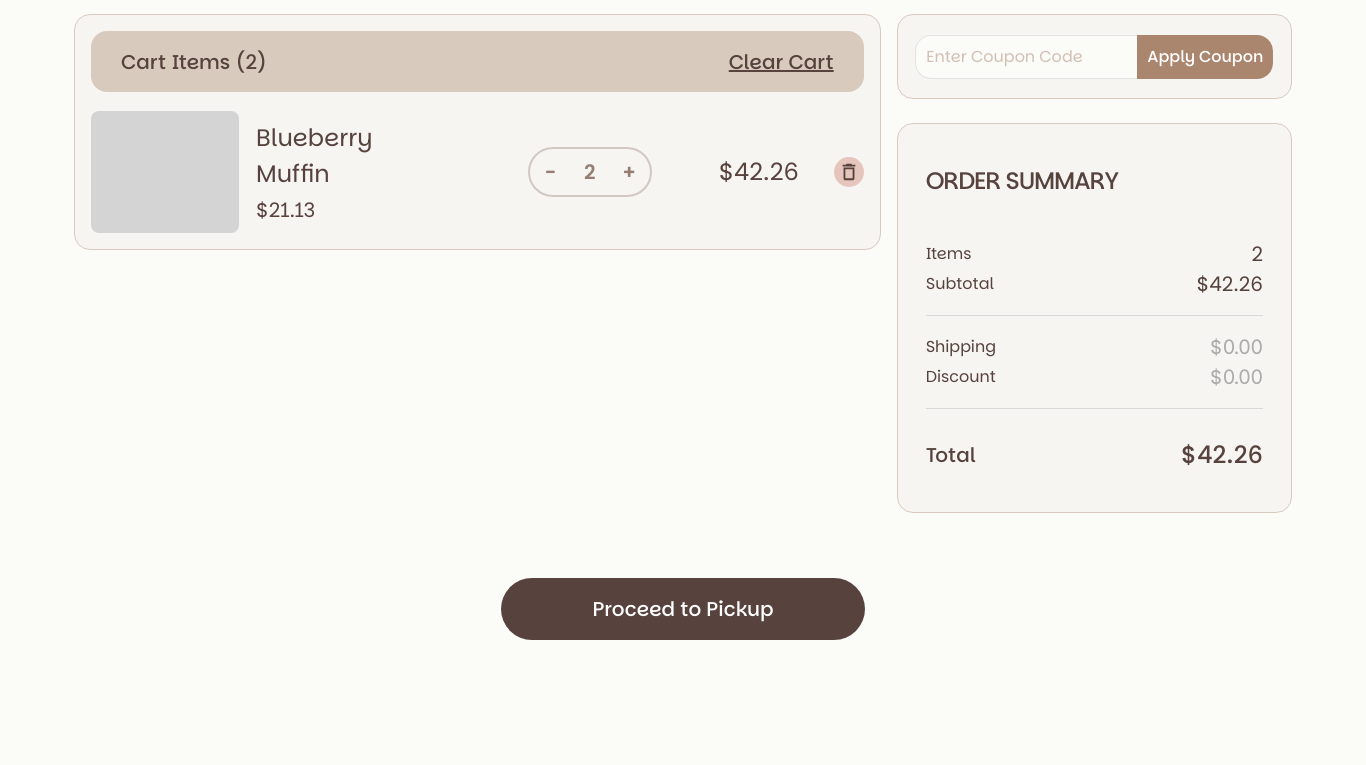
Pickup stage 2 - Step 01, the contact form › offers a way back to the cart
The image size is (1366, 765).
(page scrolled)
Click the button "Proceed to Pickup": (683, 609) [501,578,865,640]
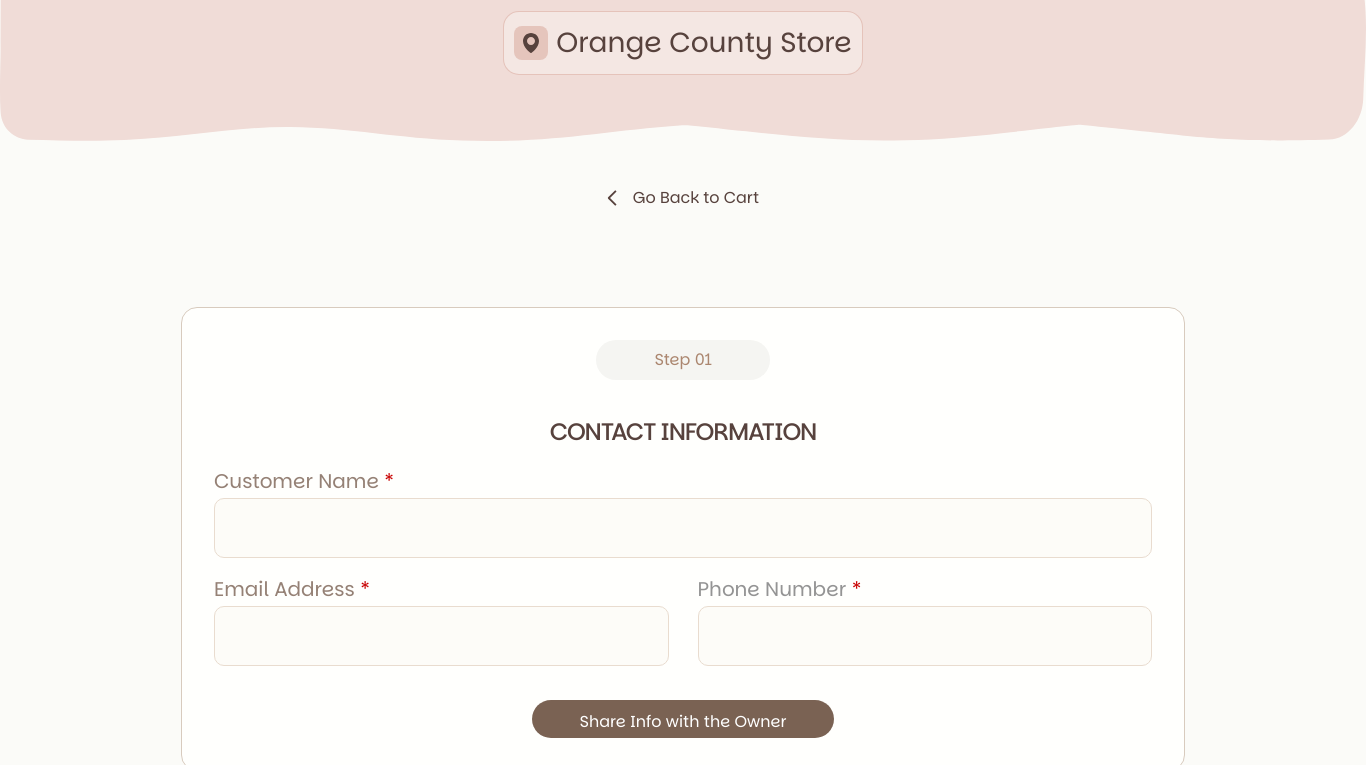
Click the button "Go Back to Cart": (683, 198) [607,186,759,210]
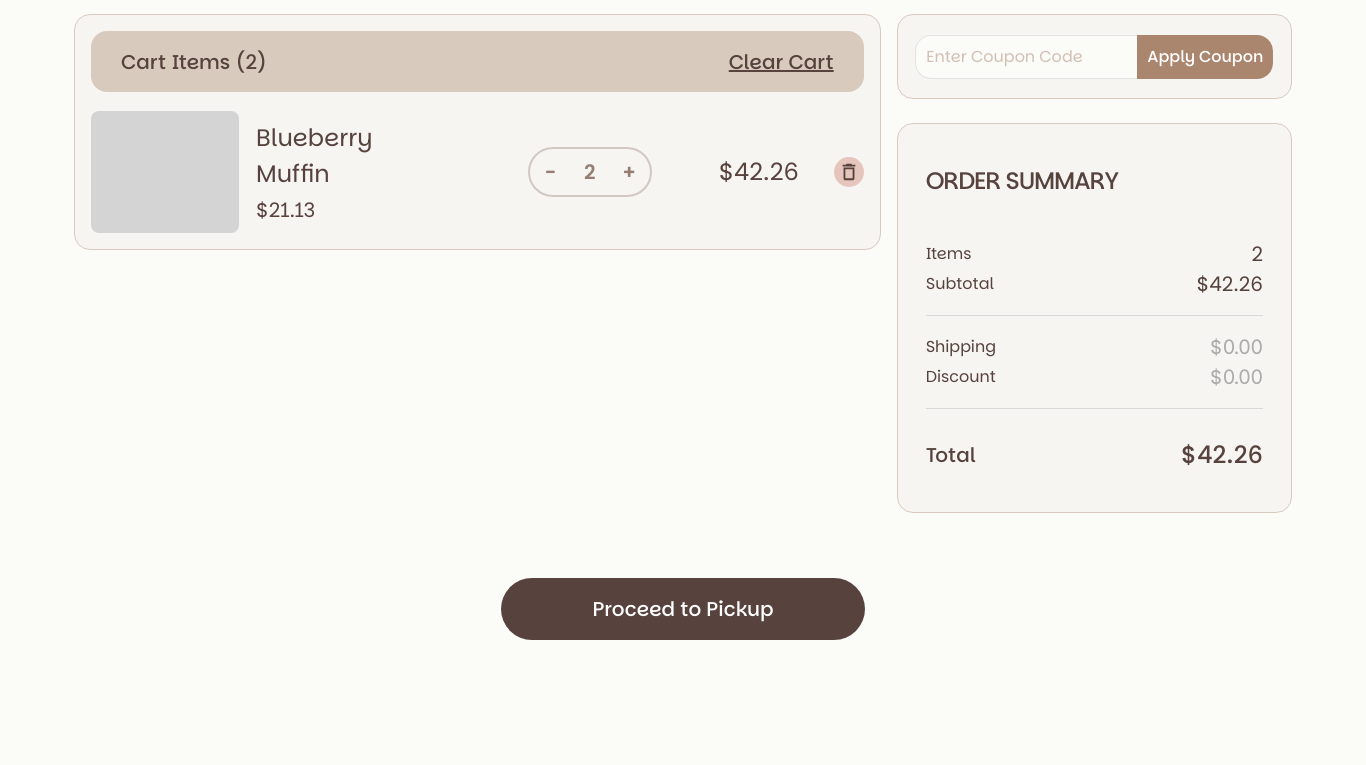
expect the text "Blueberry Muffin" is shown: met, box [256,120,372,190]
expect the button "Proceed to Pickup" is shown: met, box [501,578,865,640]
